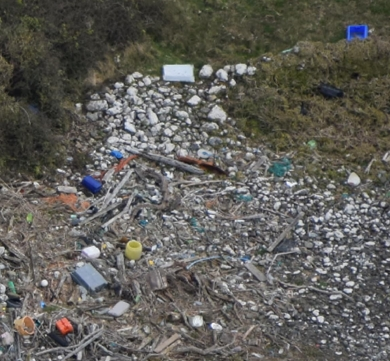scattered_barrel: (301, 8, 390, 109)
straight_bar: (121, 139, 209, 180)
together_barrel: (4, 137, 366, 361)
white_in_green: (138, 33, 216, 102)
